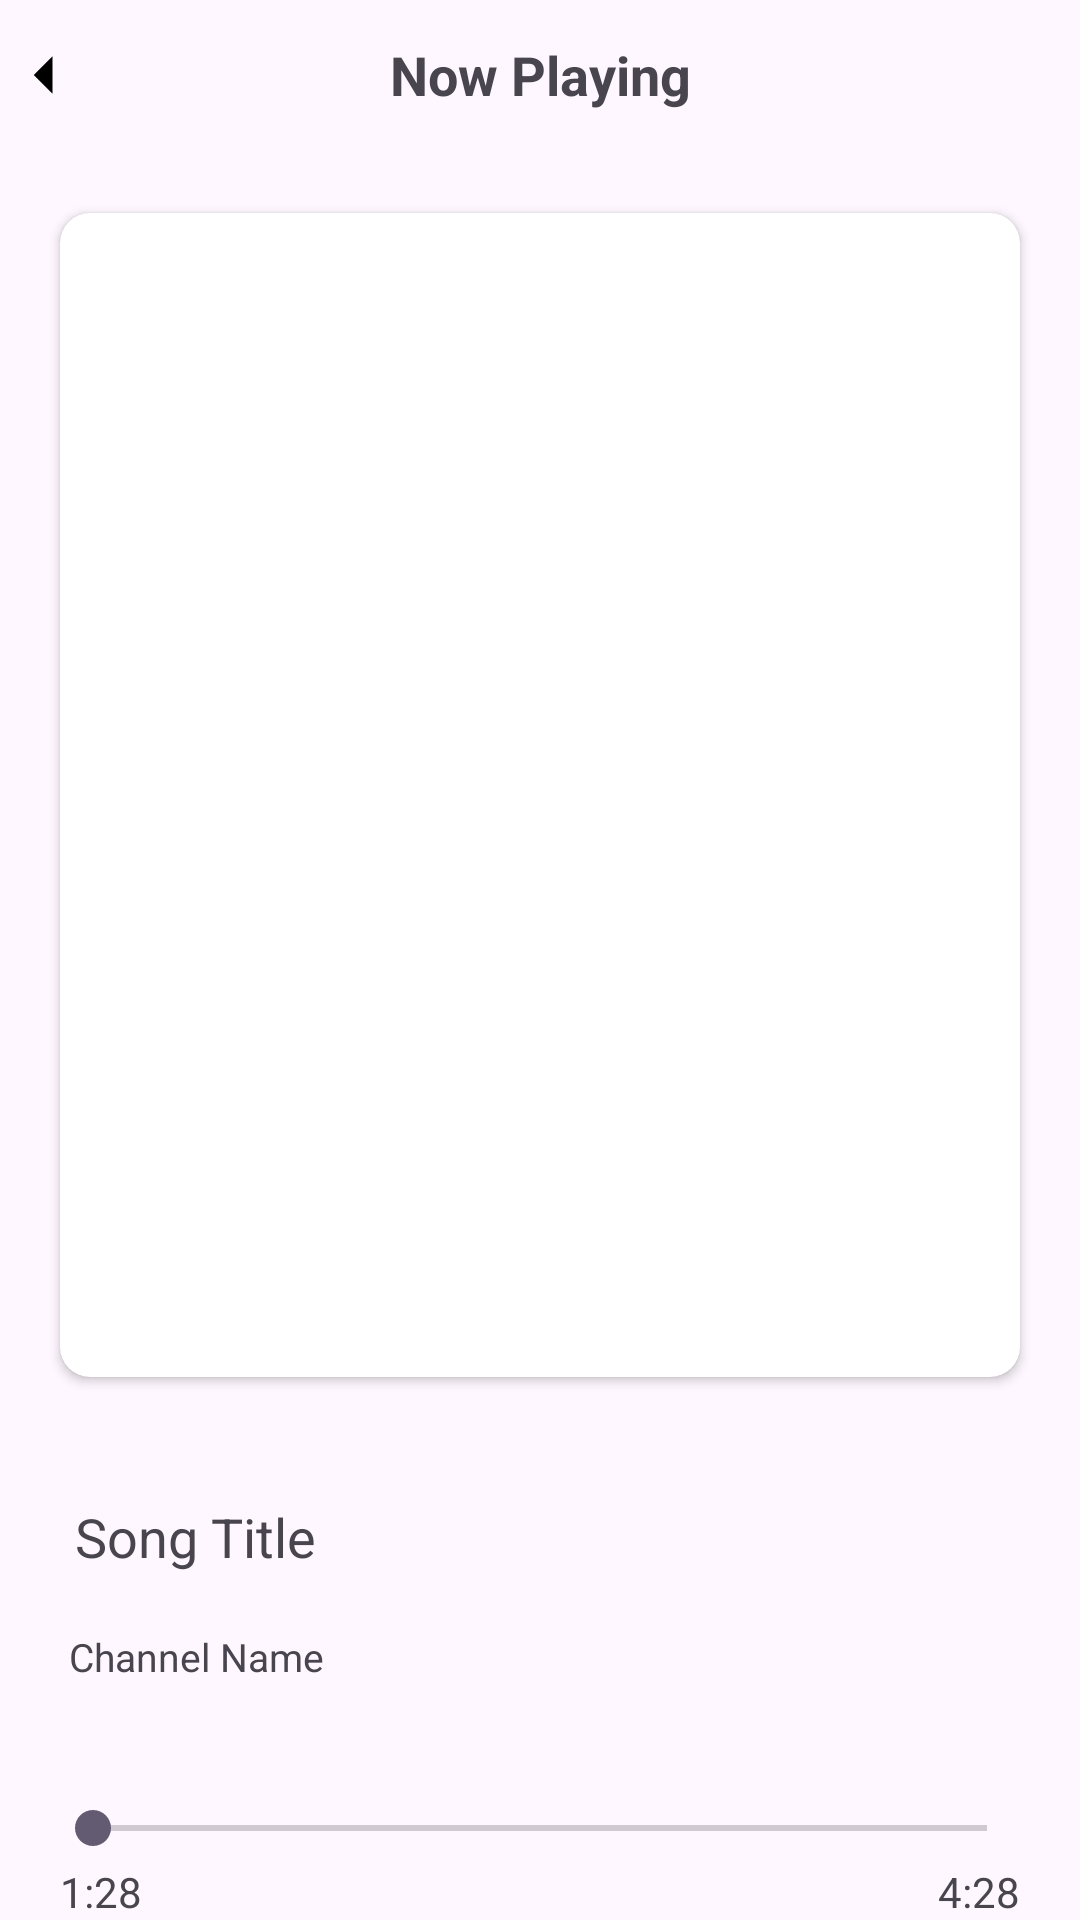

Icon bounding boxes for this 1080px×1920px phone screenshot, format (x1, y1, x2, y2):
arrow left: (34, 56, 53, 94)
